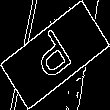P_SE: (29, 24, 81, 86)
